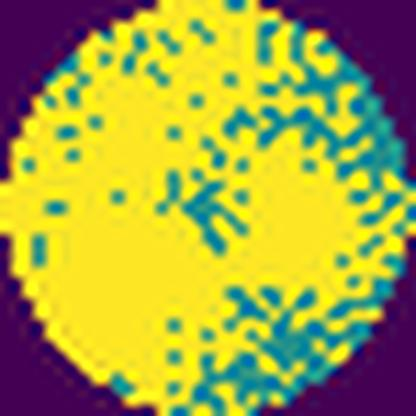Near-full: (0, 0, 358, 389)
